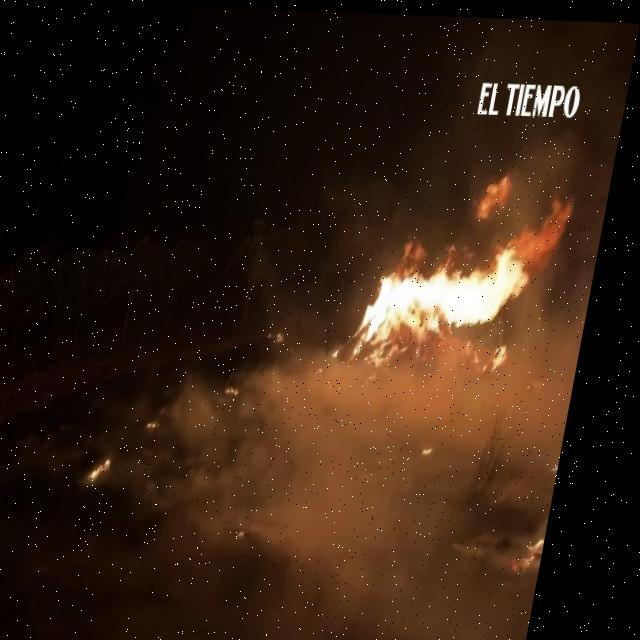Fire: (354, 160, 586, 377), (532, 527, 564, 573), (106, 455, 131, 483), (238, 380, 254, 394), (160, 416, 178, 428), (438, 438, 452, 452), (344, 343, 351, 355), (288, 327, 296, 337)
